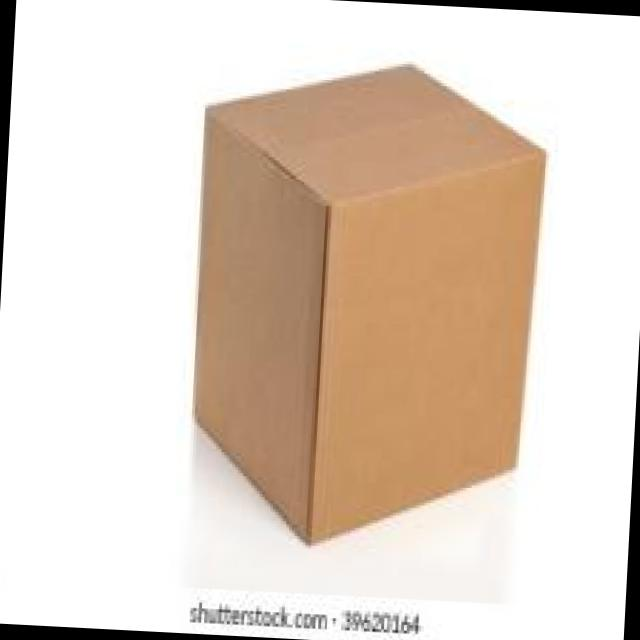box: (193, 64, 548, 546)
